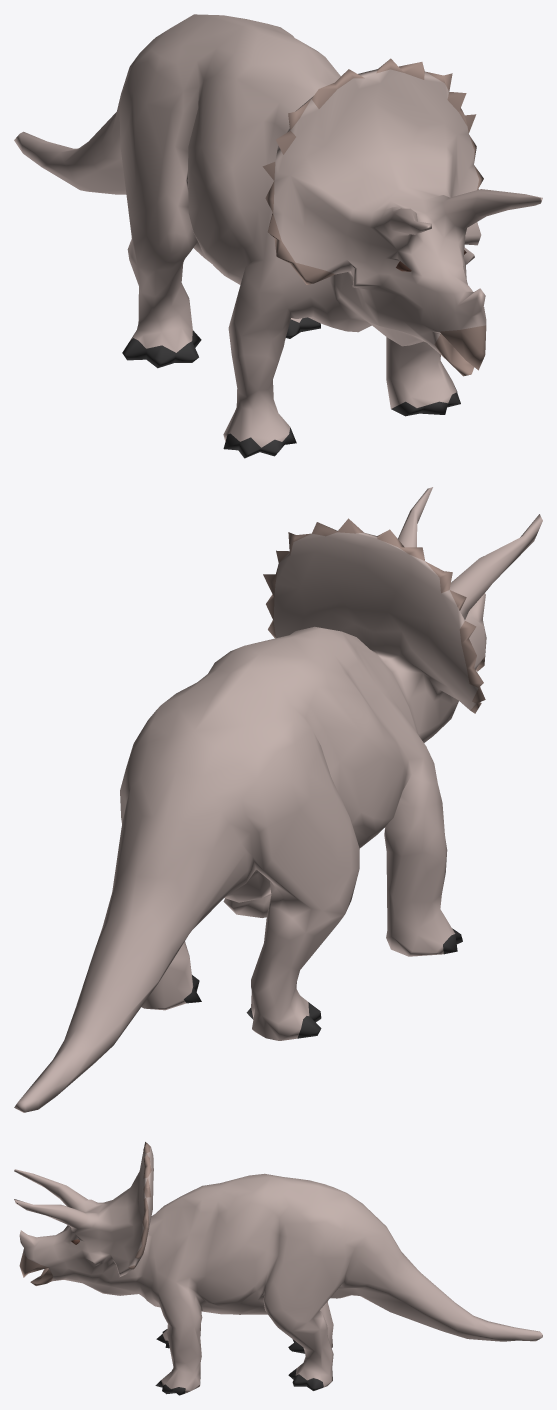
The model's file is dinosaur_004.gltf.
3 renders of one model, top to bottom at view 1: azimuth 30°, elevation 25°; view 2: azimuth 150°, elevation 25°; view 3: azimuth 270°, elevation 25°, orthographic. The views are drawn at different scales.
Visible parts, largest first — view 1: dinosaur_004; view 2: dinosaur_004; view 3: dinosaur_004.
Boxes of the visible parts, box(x1,y1,x2,y2) form: dinosaur_004: box(14, 14, 542, 458); dinosaur_004: box(14, 487, 542, 1112); dinosaur_004: box(14, 1142, 542, 1395).
Size of the model in its own units: 4.53 by 7.06 by 15.66.
1 material, 1 textured.
